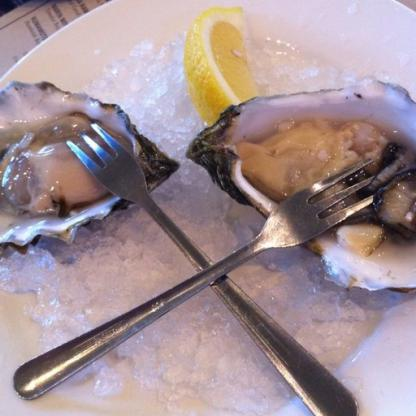oyster: (180, 84, 416, 292), (0, 78, 170, 254)
